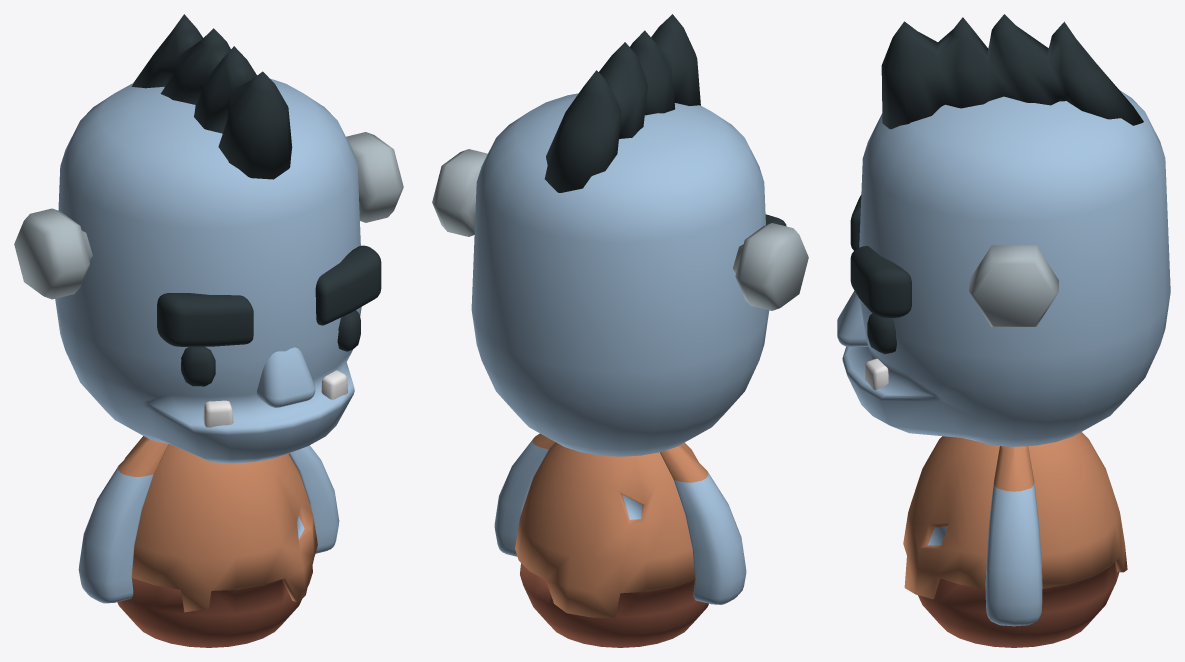
File: character_monster.gltf
3 renders of one model, left to right at view 1: azimuth 30°, elevation 25°; view 2: azimuth 150°, elevation 25°; view 3: azimuth 270°, elevation 25°, orthographic. The views are drawn at different scales.
Parts seen in each view (by area): view 1: character_monsterHead, character_monster, character_monsterArmRight, character_monsterArmLeft; view 2: character_monsterHead, character_monster, character_monsterArmRight, character_monsterArmLeft; view 3: character_monsterHead, character_monster, character_monsterArmLeft.
Part boxes in pixels (x1,y1,x2,y2): character_monsterHead: (14,14,403,463); character_monster: (117,436,317,647); character_monsterArmRight: (78,437,168,603); character_monsterArmLeft: (289,445,339,553); character_monsterHead: (432,14,808,456); character_monster: (515,442,708,647); character_monsterArmRight: (660,444,746,604); character_monsterArmLeft: (494,433,555,556); character_monsterHead: (837,14,1170,446); character_monster: (903,432,1127,647); character_monsterArmLeft: (985,446,1042,626).
Size of the model in its own units: 1.31 by 2.12 by 1.06.
